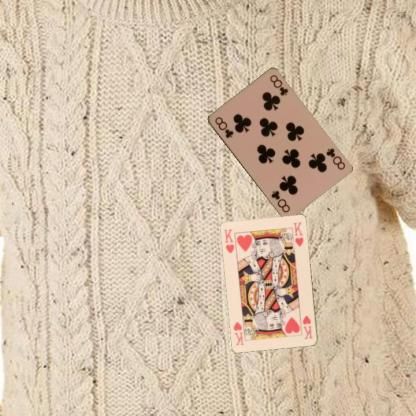8c: (212, 115, 235, 140), (323, 146, 346, 171)
Kh: (221, 226, 236, 255), (300, 313, 314, 340)
